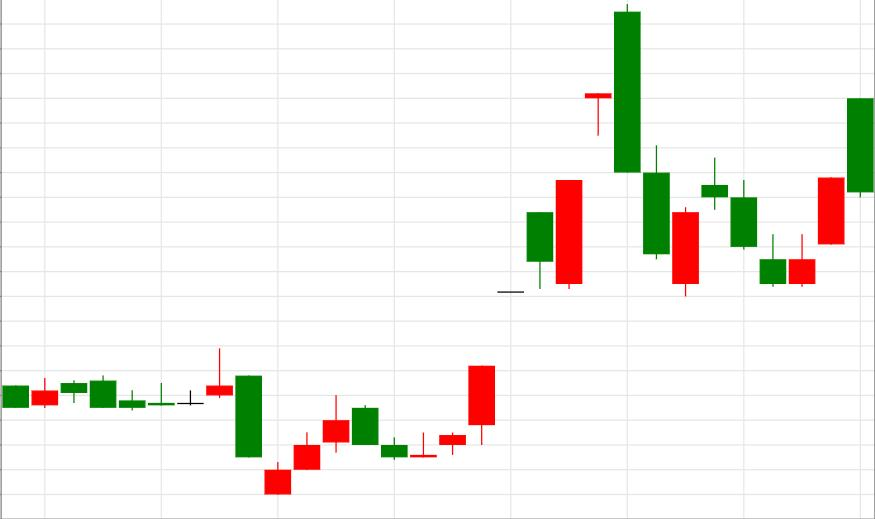bearish_engulfing_fall: (410, 3, 641, 458)
